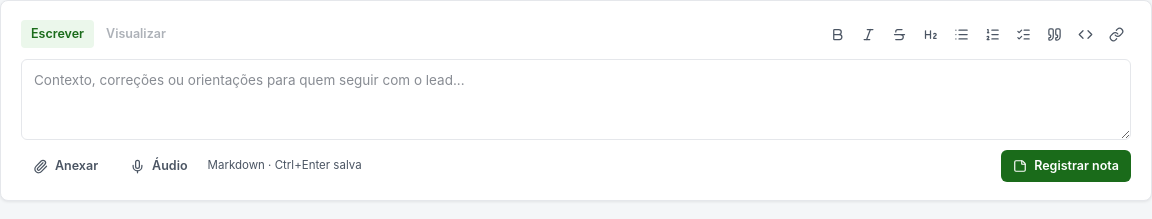
Test: NoteComposer — toolbar e atalhos › colar URL sobre texto selecionado cria link markdown
Type "proposta" into the text box named "Corpo da nota".
click(576, 100); type("proposta")  # box x1=21 y1=59 x2=1131 y2=140
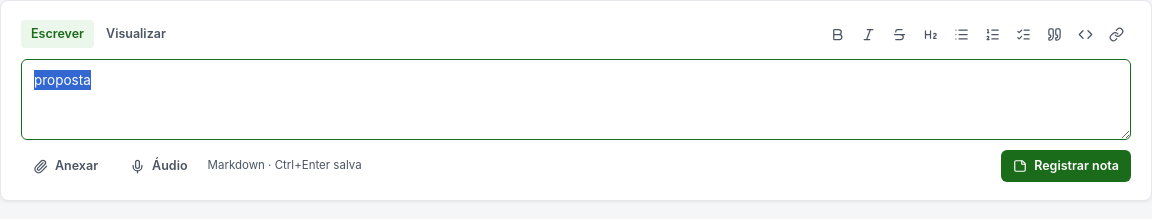
Type keys "https://wizmart.com.br/p/1"
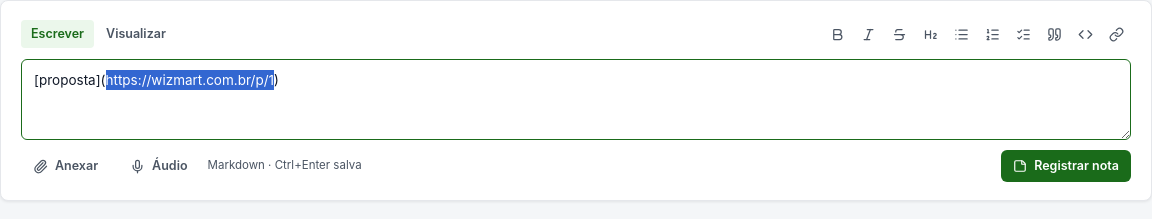
Now the text box named "Corpo da nota" holds "[proposta](https://wizmart.com.br/p/1)", box x1=21 y1=59 x2=1131 y2=140
